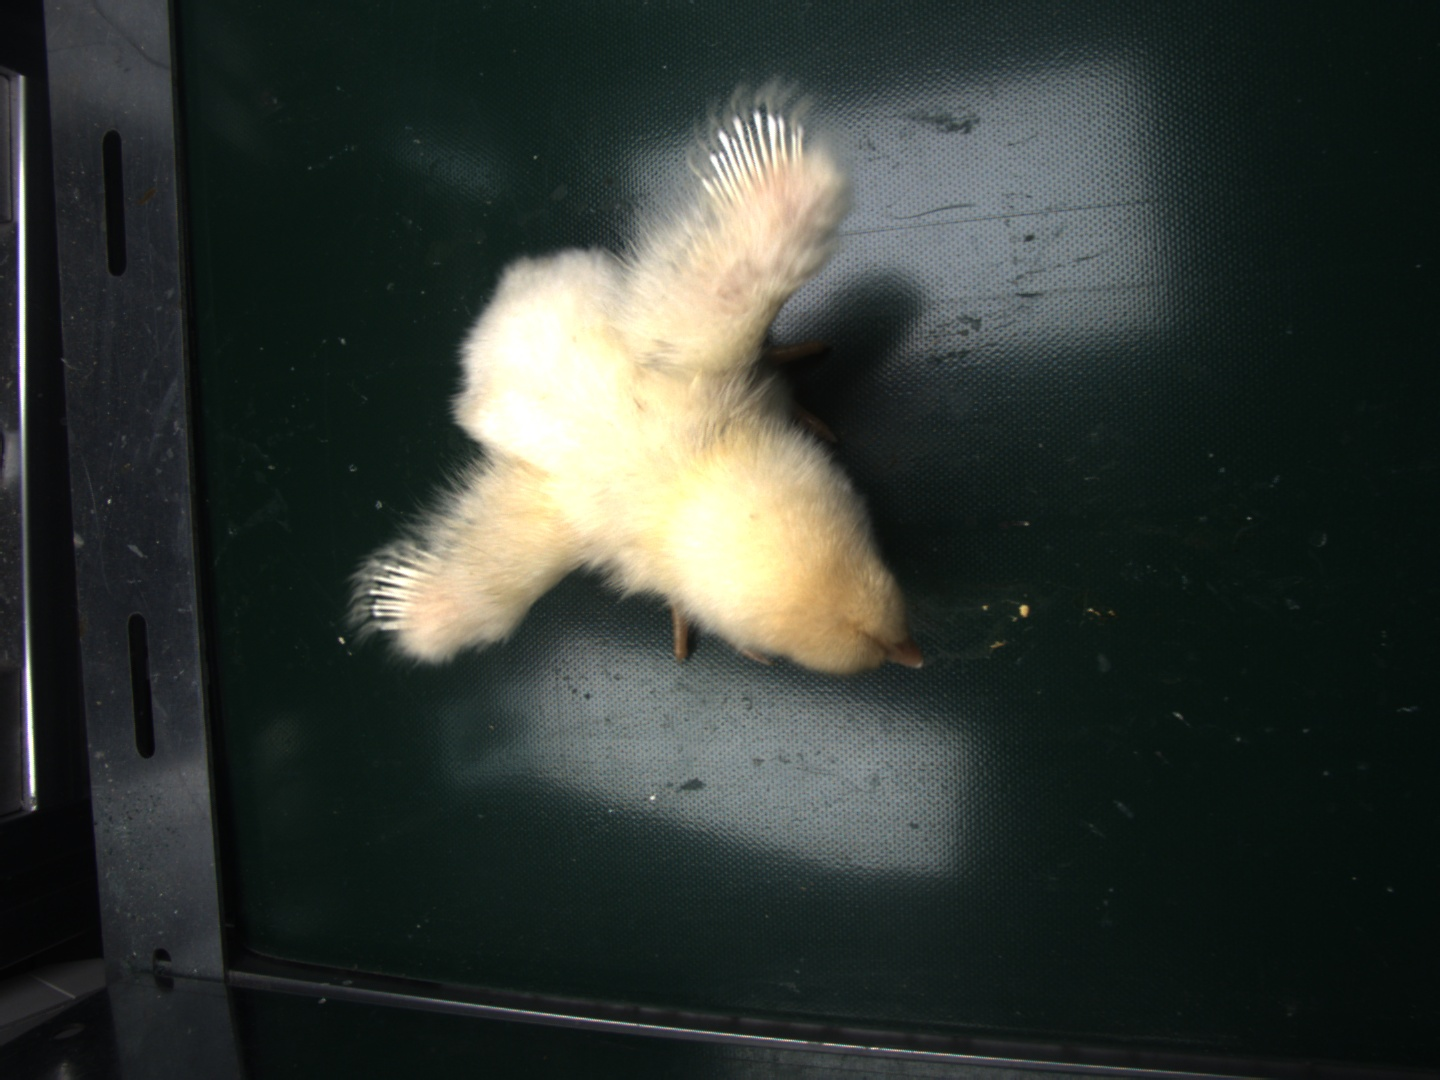male: (703, 107, 803, 201), (370, 556, 437, 628)
